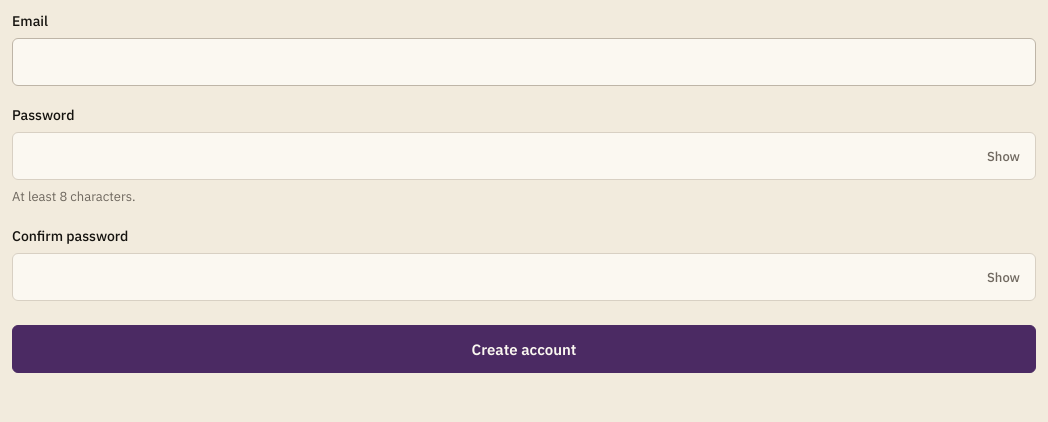
Test case: AuthForm › validates registration confirmation locally
In the field labelled "Email": (524, 62) [12,38,1036,86], type "user@example.com"
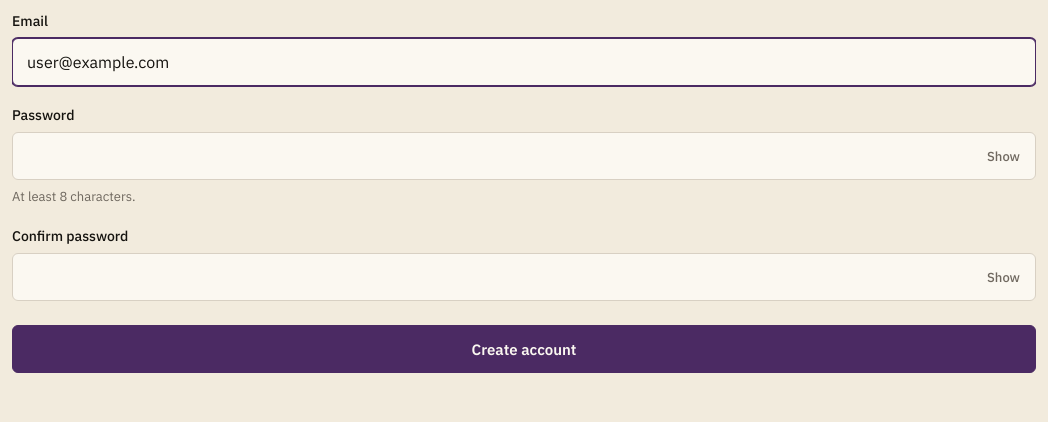
In the password field labelled "Password": (524, 156) [12,132,1036,180], type "password123"
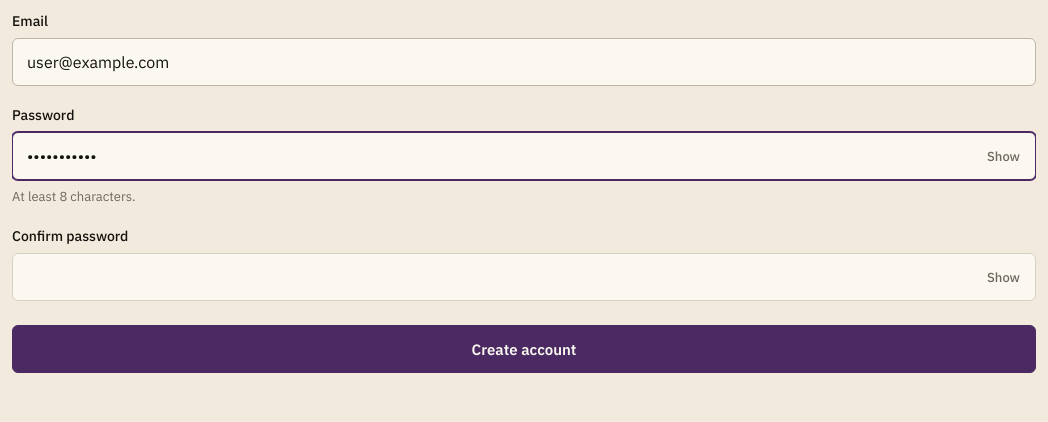
In the password field labelled "Confirm password": (524, 277) [12,253,1036,301], type "different123"
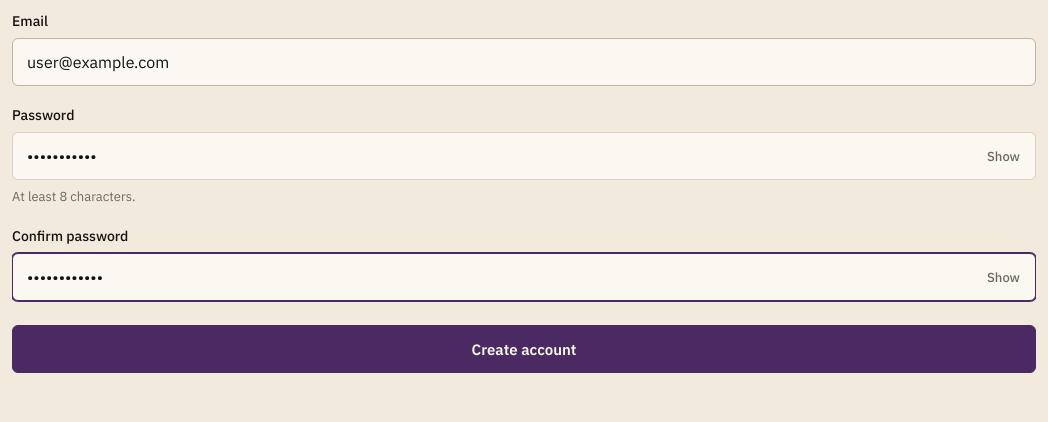
Click the button "Create account": (524, 349) [12,325,1036,373]
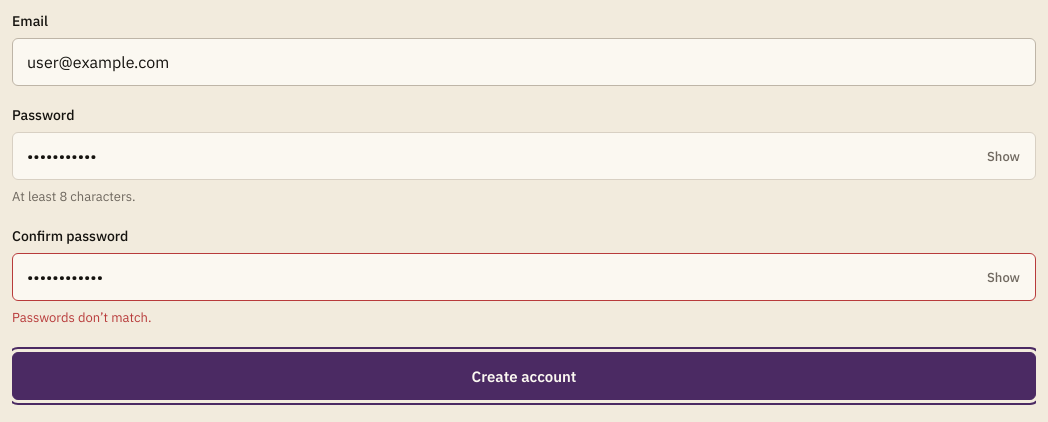
Now the text "Passwords don’t match." is shown, box [12,309,152,326]
